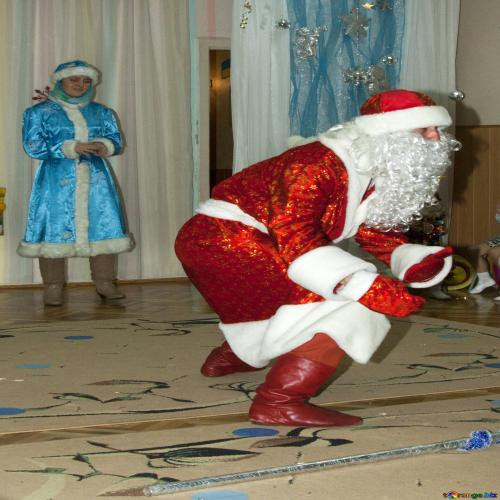Santa: (177, 90, 459, 428)
